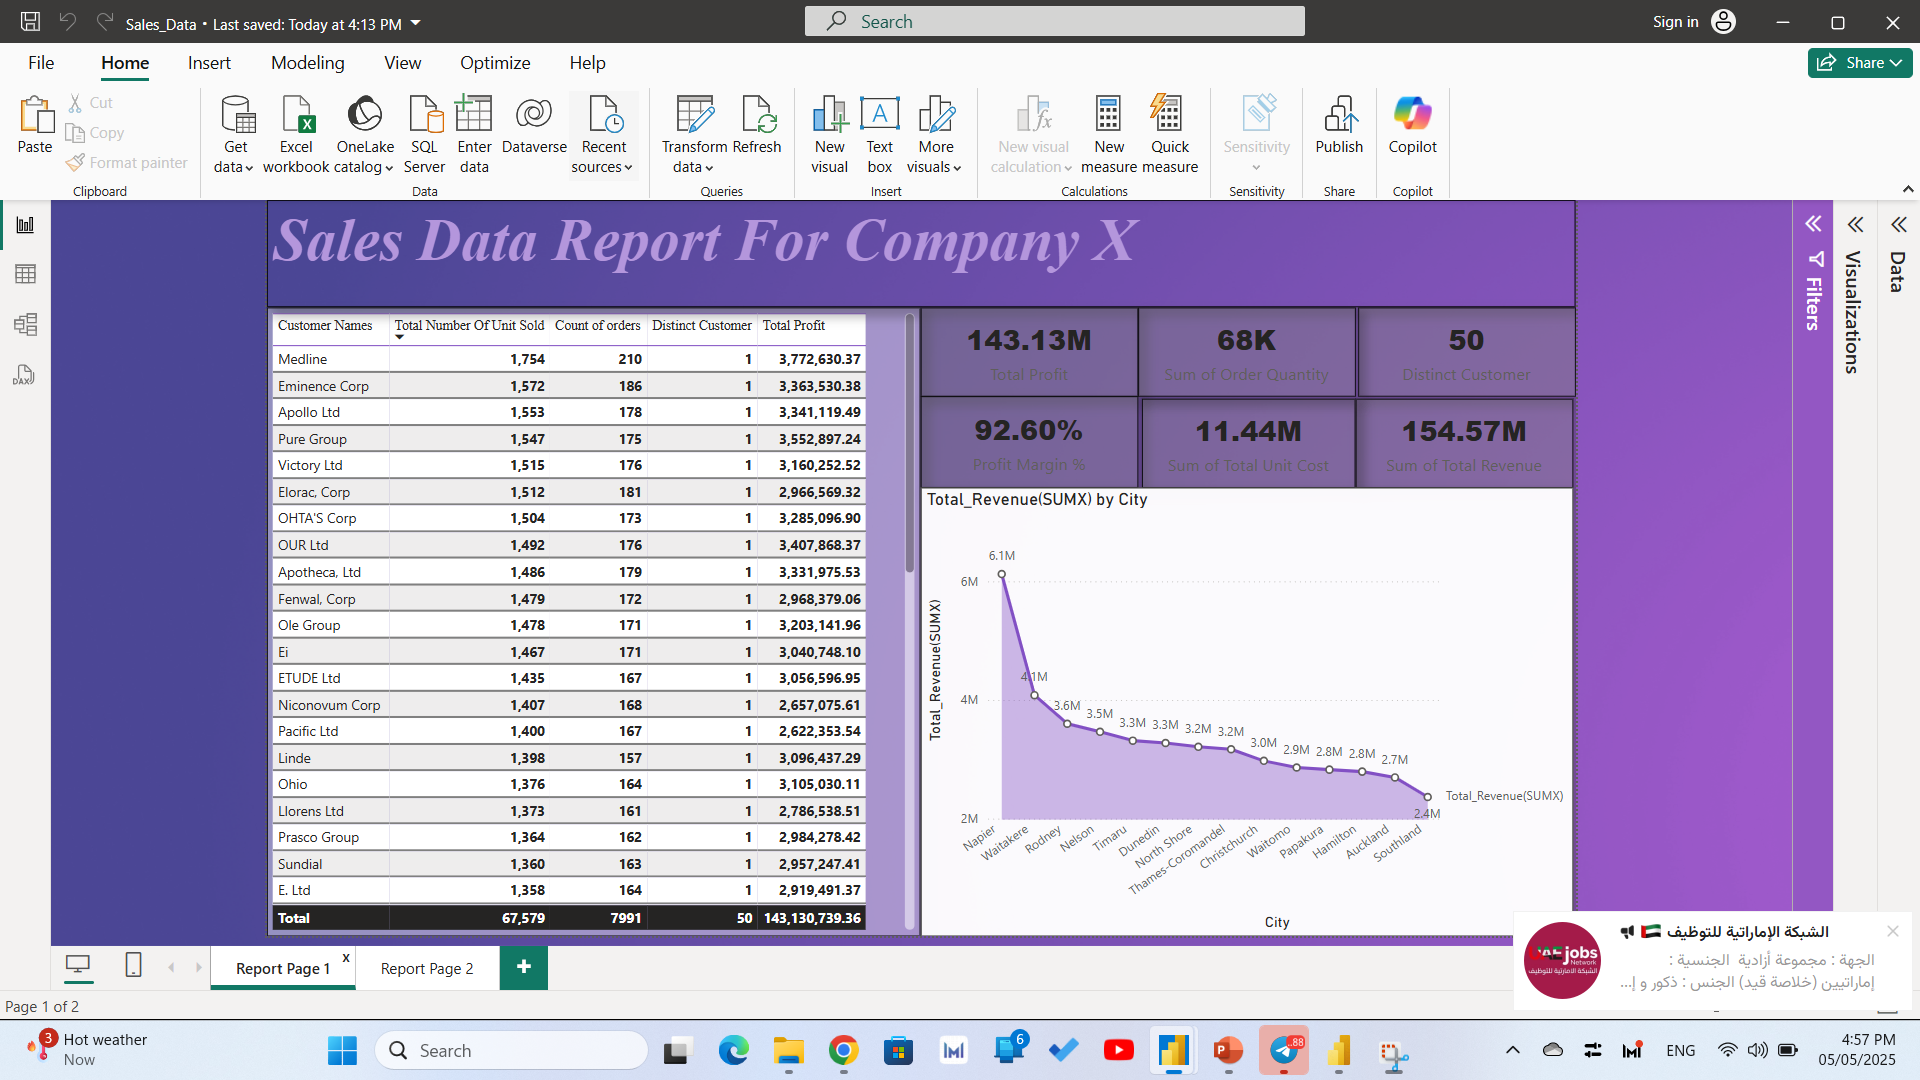

The page's visual inventory and layout, read from the dashboard file:
{"tool":"powerbi","page":{"name":"Report Page 1","canvas":[1280,720],"ordinal":0},"visuals":[{"type":"pivotTable","fields":{"Rows":["Customer_Data.Customer Names"],"Values":["Sales_Data.Total Number Of Unit Sold","Sales_Data.Count of orders","Sales_Data.Distinct Customer","Sales_Data.Total Profit"]},"box":[0,105.2,639.5,615.1],"z":0},{"type":"textbox","box":[0,0,1280.3,105.2],"z":1000},{"type":"card","fields":{"Values":["Sales_Data.Distinct Customer"]},"box":[1067.5,105.2,212.8,86.8],"z":2000},{"type":"card","fields":{"Values":["Sales_Data.Total Profit"]},"box":[639.5,105.2,212.8,86.8],"z":3000},{"type":"card","fields":{"Values":["Sales_Data.Profit Margin %"]},"box":[639.5,192,212.8,89.3],"z":4000},{"type":"card","fields":{"Values":["Sum(Sales_Data.Total Revenue)"]},"box":[1065.1,194.4,212.8,86.8],"z":4001},{"type":"card","fields":{"Values":["Sum(Sales_Data.Total Unit Cost)"]},"box":[856,194.4,209.1,86.8],"z":4002},{"type":"card","fields":{"Values":["Sum(Sales_Data.Order Quantity)"]},"box":[852.3,105.2,212.8,86.8],"z":4003},{"type":"lineChart","fields":{"Category":["Regions_Table.City"],"Y":["Sales_Data.Total_Revenue(SUMX)"]},"box":[639.5,281.3,638.1,439.1],"z":4004}]}

Visuals, with their boxes on the page's 1280x720 design canvas (x1, y1, x2, y2). These are canvas units, not pixel positions in the 1920x1080 screenshot, which may show the page scaled, cropped or inside an application window:
pivotTable - Customer_Data.Customer Names x Sales_Data.Total Number Of Unit Sold: BBox(0, 105, 640, 720)
textbox: BBox(0, 0, 1280, 105)
card - Sales_Data.Distinct Customer: BBox(1068, 105, 1280, 192)
card - Sales_Data.Total Profit: BBox(640, 105, 852, 192)
card - Sales_Data.Profit Margin %: BBox(640, 192, 852, 281)
card - Sum(Sales_Data.Total Revenue): BBox(1065, 194, 1278, 281)
card - Sum(Sales_Data.Total Unit Cost): BBox(856, 194, 1065, 281)
card - Sum(Sales_Data.Order Quantity): BBox(852, 105, 1065, 192)
lineChart - Regions_Table.City x Sales_Data.Total_Revenue(SUMX): BBox(640, 281, 1278, 720)
